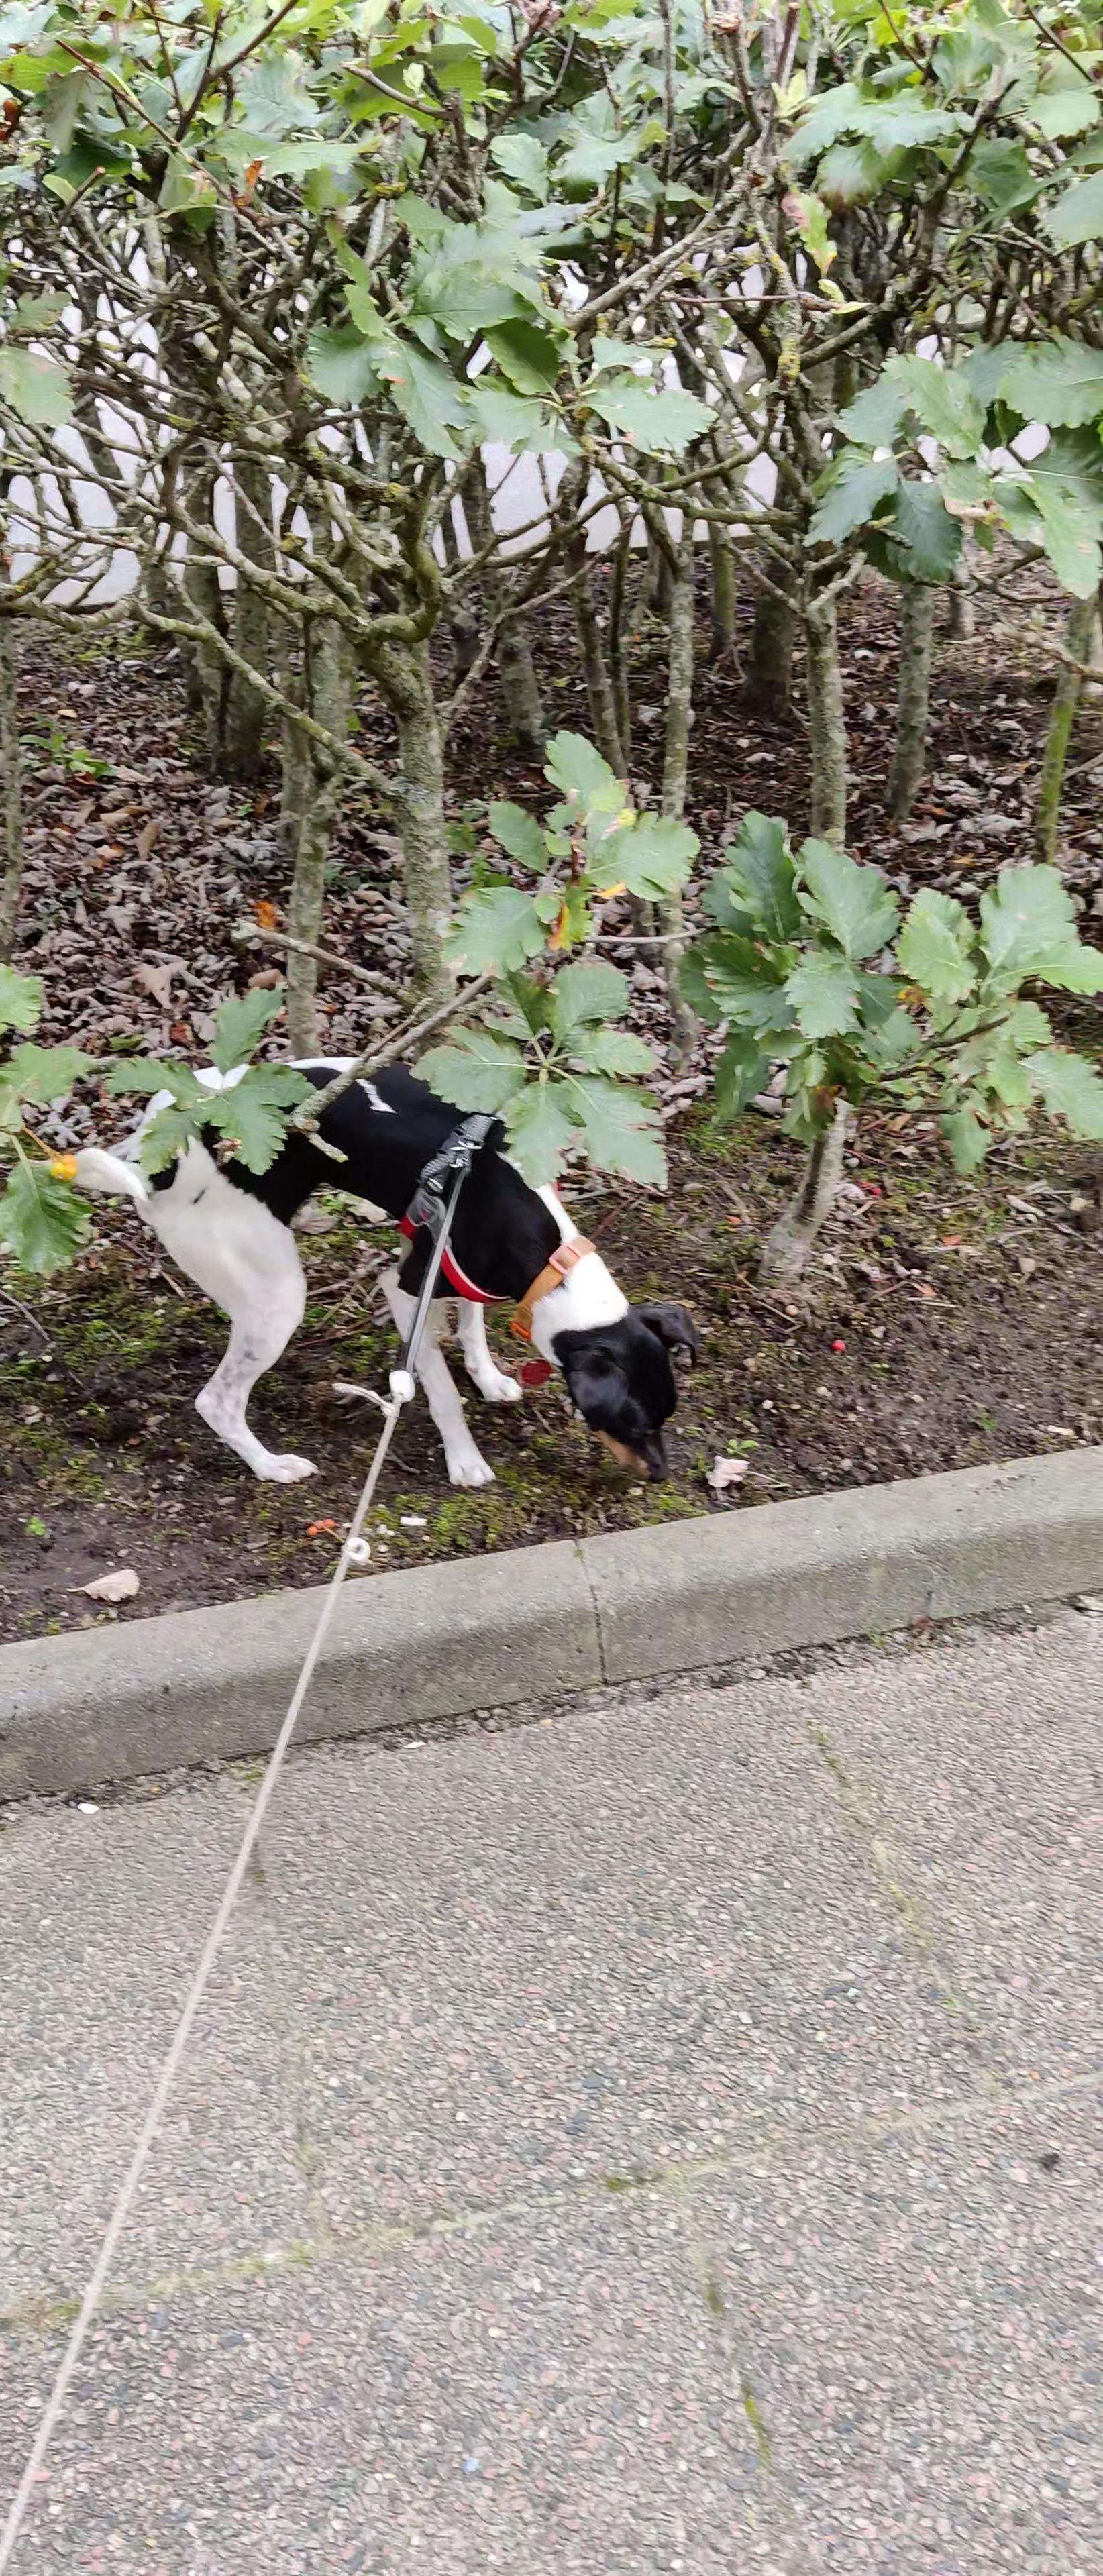Dog: (54, 1035, 715, 1518)
